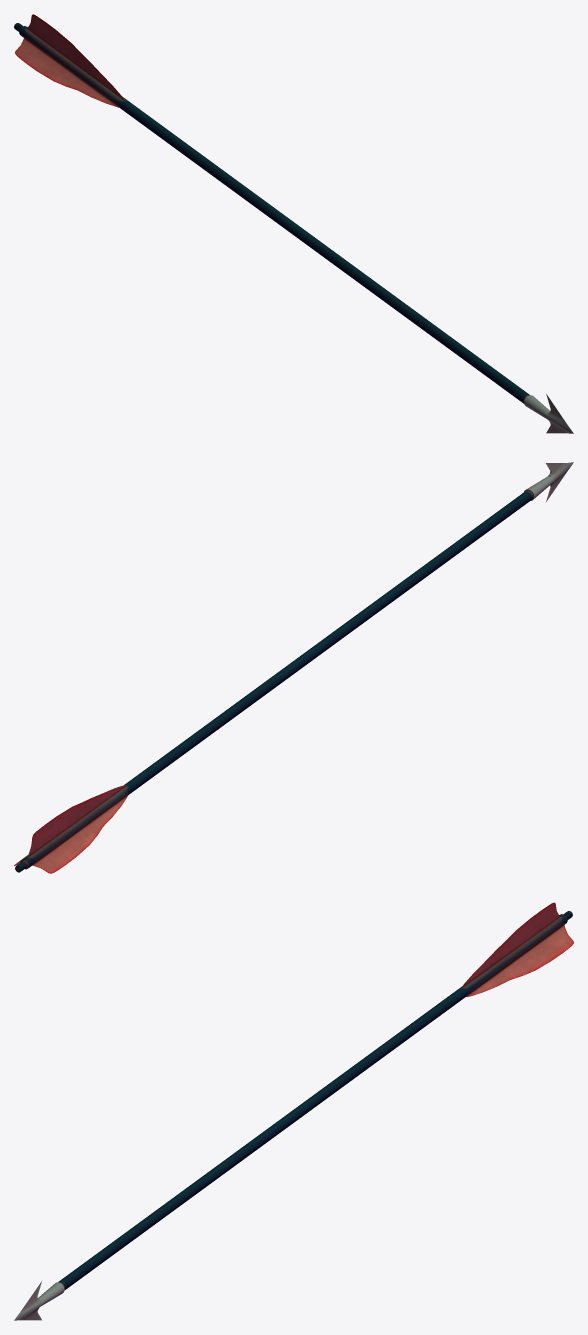
The model's file is Arrow.glb.
3 views of the same model, one above another, from view 1: azimuth 30°, elevation 25°; view 2: azimuth 150°, elevation 25°; view 3: azimuth 330°, elevation 25° (orthographic).
Parts seen in each view (by area): view 1: Arrow; view 2: Arrow; view 3: Arrow.
Part boxes in pixels (x1,y1,x2,y2): Arrow: (14,14,573,433); Arrow: (14,462,573,873); Arrow: (14,902,573,1320).
Size of the model in its own units: 0.0382 by 0.0408 by 0.9211.
Materials: 1 (1 with a texture image).
